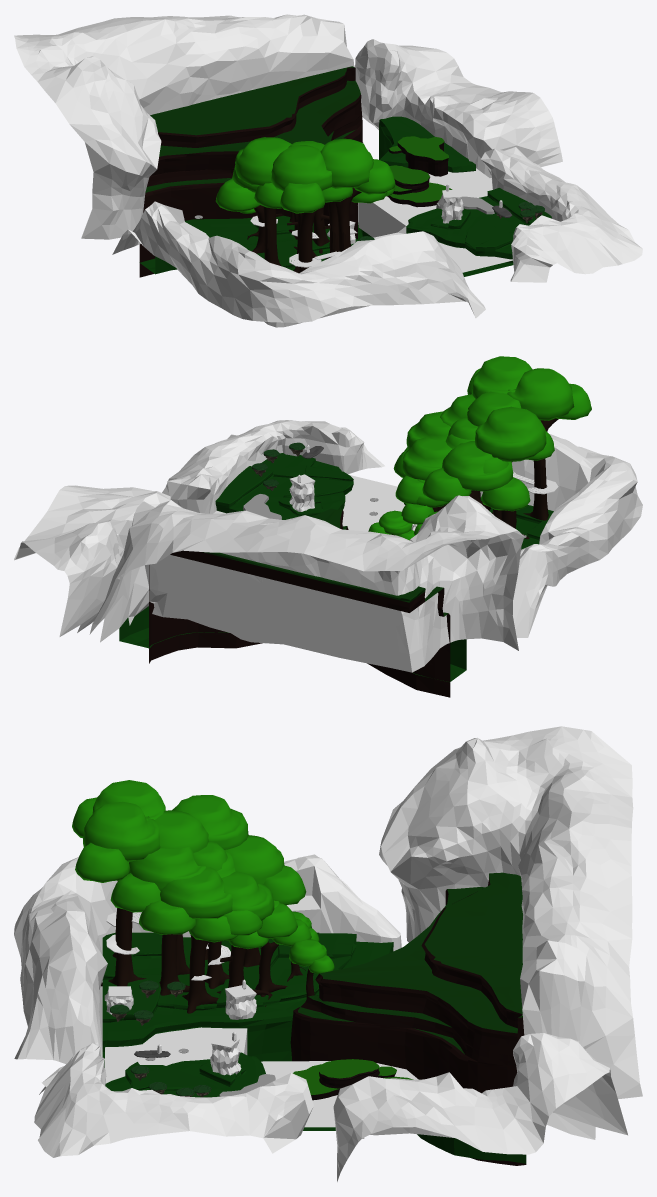
File: SM_Tutorial_TEST_3.FBX
3 renders of one model, top to bottom at view 1: azimuth 30°, elevation 25°; view 2: azimuth 150°, elevation 25°; view 3: azimuth 270°, elevation 25°, orthographic. The views are drawn at different scales.
Visible parts, largest first — view 1: Tutorial_TEST, Cliff, Ground, SM_Tree_003, Water, SM_Tree_004, SM_Tree_006, SM_Island_1, SM_Hill_1, SM_Tree_1, SM_Tree_001, SM_Tree_002 (+2 smaller); view 2: Tutorial_TEST, Cliff, Ground, SM_Tree_1, SM_Tree_003, SM_Tree_006, Water, SM_Tree_008, SM_Tree_001, SM_Tree_004, SM_Tree_005, SM_Tree_011 (+4 smaller); view 3: Tutorial_TEST, Cliff, Ground, SM_Tree_004, SM_Tree_005, Water, SM_Tree_002, SM_Tree_008, SM_Tree_1, SM_Tree_001, SM_Tree_006, SM_Island_1 (+6 smaller).
Part boxes in pixels (left/top/right/bottom): Tutorial_TEST: left=14, top=14, right=642, bottom=327; Cliff: left=139, top=66, right=362, bottom=277; Ground: left=139, top=116, right=551, bottom=276; SM_Tree_003: left=270, top=145, right=352, bottom=272; Water: left=358, top=168, right=512, bottom=272; SM_Tree_004: left=320, top=138, right=395, bottom=251; SM_Tree_006: left=235, top=137, right=291, bottom=266; SM_Island_1: left=387, top=165, right=452, bottom=207; SM_Hill_1: left=389, top=136, right=448, bottom=176; SM_Tree_1: left=215, top=161, right=264, bottom=253; SM_Tree_001: left=254, top=141, right=324, bottom=273; SM_Tree_002: left=323, top=192, right=387, bottom=258; Tutorial_TEST: left=14, top=420, right=642, bottom=672; Cliff: left=149, top=508, right=450, bottom=697; Ground: left=119, top=453, right=553, bottom=682; SM_Tree_1: left=422, top=441, right=530, bottom=511; SM_Tree_003: left=507, top=368, right=591, bottom=520; SM_Tree_006: left=475, top=406, right=546, bottom=545; Water: left=213, top=475, right=405, bottom=531; SM_Tree_008: left=395, top=437, right=452, bottom=511; SM_Tree_001: left=448, top=391, right=554, bottom=539; SM_Tree_004: left=467, top=356, right=532, bottom=514; SM_Tree_005: left=393, top=411, right=450, bottom=511; SM_Tree_011: left=368, top=510, right=414, bottom=540; Tutorial_TEST: left=14, top=726, right=642, bottom=1181; Cliff: left=290, top=872, right=526, bottom=1165; Ground: left=102, top=932, right=526, bottom=1163; SM_Tree_004: left=75, top=801, right=160, bottom=986; SM_Tree_005: left=139, top=867, right=262, bottom=1013; Water: left=105, top=1027, right=418, bottom=1127; SM_Tree_002: left=110, top=846, right=205, bottom=995; SM_Tree_008: left=189, top=871, right=297, bottom=1006; SM_Tree_1: left=225, top=835, right=306, bottom=967; SM_Tree_001: left=155, top=810, right=227, bottom=975; SM_Tree_006: left=172, top=795, right=248, bottom=959; SM_Island_1: left=293, top=1059, right=396, bottom=1100.
Size of what is drawn, in the model's own units: 19171 by 8524 by 18761.
